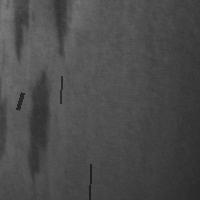inclusion: (24, 64, 52, 188), (6, 1, 36, 66), (51, 1, 71, 63), (87, 162, 92, 200), (15, 91, 24, 112), (58, 74, 63, 105)
